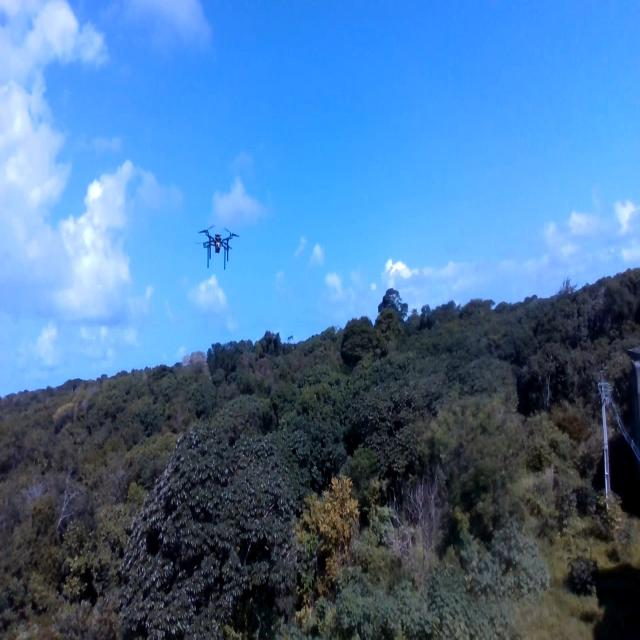-uav-: (191, 212, 250, 278)
